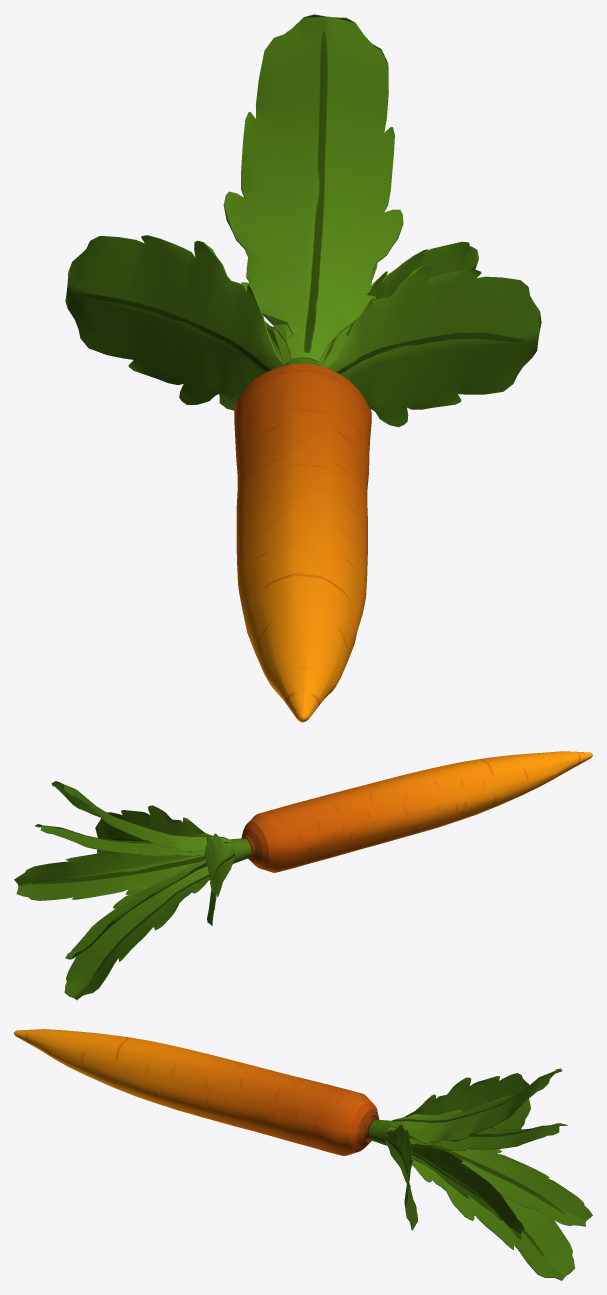
The model's file is carrot.obj.
3 renders of one model, top to bottom at view 1: azimuth 30°, elevation 25°; view 2: azimuth 150°, elevation 25°; view 3: azimuth 270°, elevation 25°, orthographic. The views are drawn at different scales.
Parts seen in each view (by area): view 1: dynamic; view 2: dynamic; view 3: dynamic.
Boxes of the visible parts, box(x1,y1,x2,y2) form: dynamic: box(65, 14, 541, 722); dynamic: box(14, 751, 592, 1000); dynamic: box(14, 1029, 592, 1280).
Size of the model in its own units: 228 by 135 by 329.
3 materials, 3 textured.
